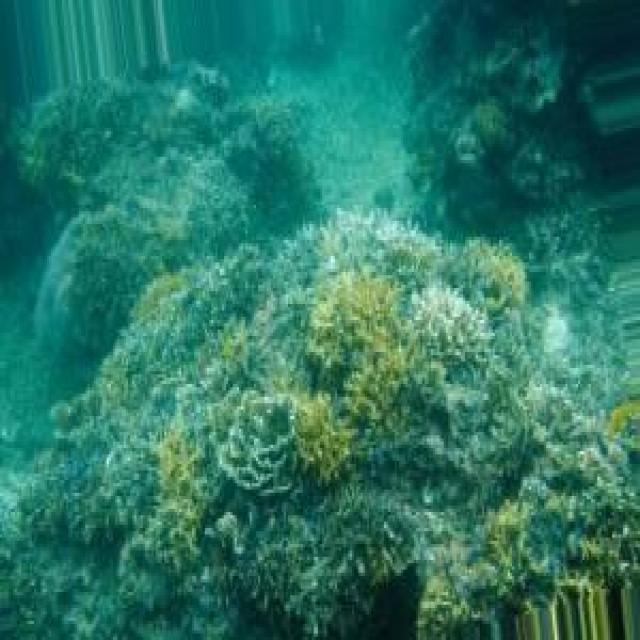healthy coral: (306, 272, 442, 433), (152, 428, 205, 575), (482, 501, 532, 608), (294, 396, 350, 485), (464, 240, 525, 314)
